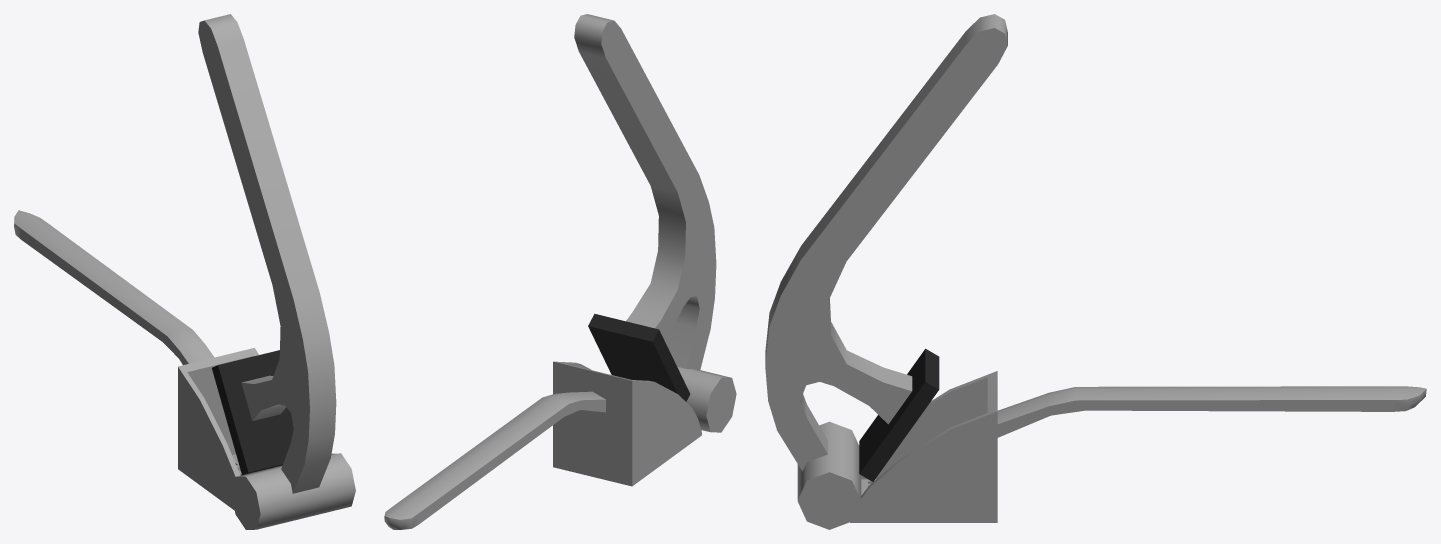
The model's file is GarlicPress_01.fbx.
3 views of the same model, side by side, from view 1: azimuth 30°, elevation 25°; view 2: azimuth 150°, elevation 25°; view 3: azimuth 270°, elevation 25° (orthographic). The views are drawn at different scales.
Visible parts, largest first — view 1: GarlicPress_01_Top, GarlicPress_01; view 2: GarlicPress_01_Top, GarlicPress_01; view 3: GarlicPress_01_Top, GarlicPress_01.
Part boxes in pixels (box(x1,y1,x2,y2)): GarlicPress_01_Top: box(198, 14, 355, 529); GarlicPress_01: box(14, 210, 258, 510); GarlicPress_01_Top: box(574, 14, 736, 432); GarlicPress_01: box(384, 361, 701, 529); GarlicPress_01_Top: box(765, 14, 1007, 529); GarlicPress_01: box(850, 371, 1426, 522).
Bounding box in the file's own units: 0.0385 × 0.172 × 0.2131.
